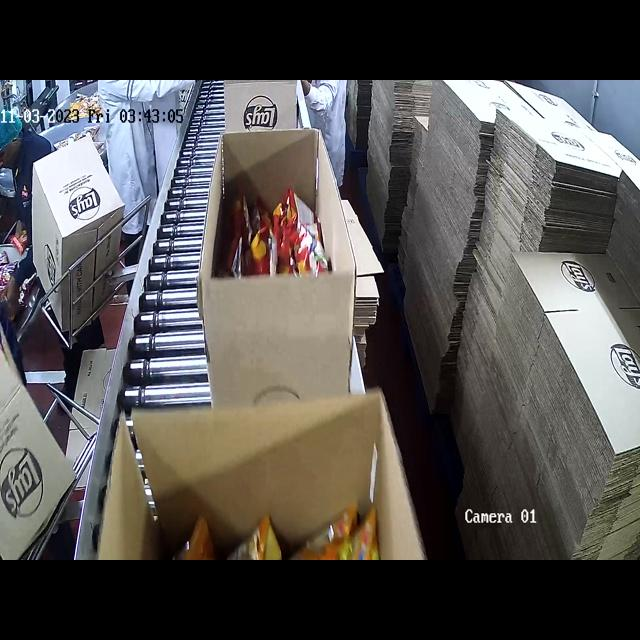cheese: (136, 476, 350, 554)
masala: (219, 192, 328, 279)
